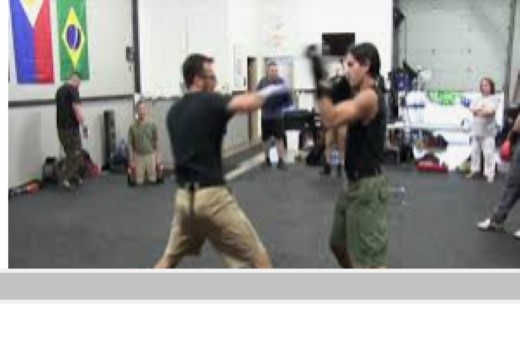baston_e: (240, 153, 264, 175)
baston_v: (213, 165, 236, 183)
